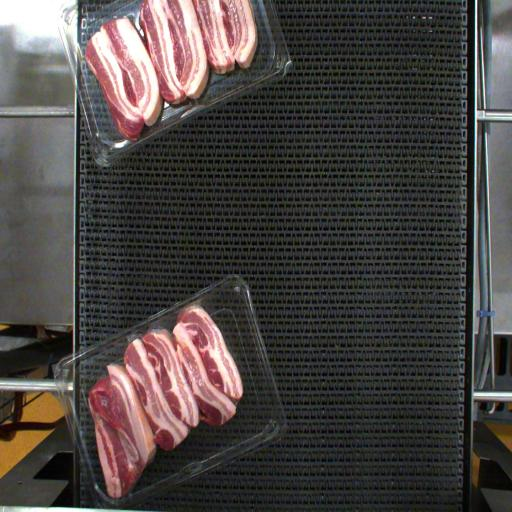packaging-error: (171, 288, 205, 318), (119, 322, 147, 346)
